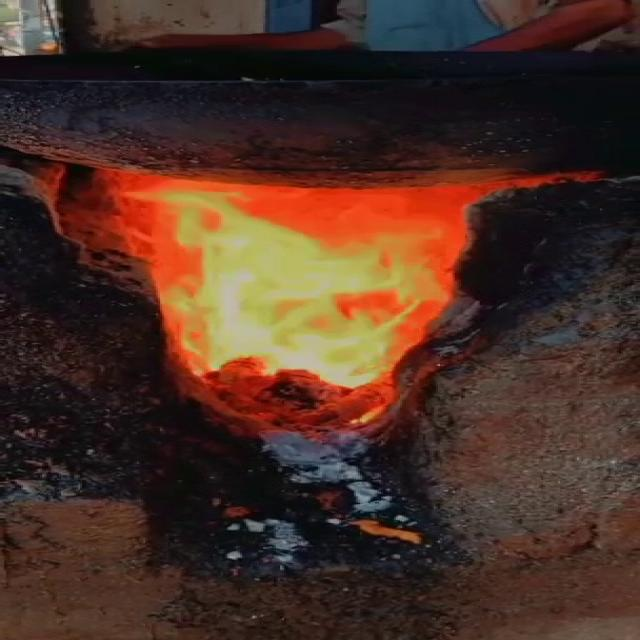Fire: (25, 160, 594, 443)
